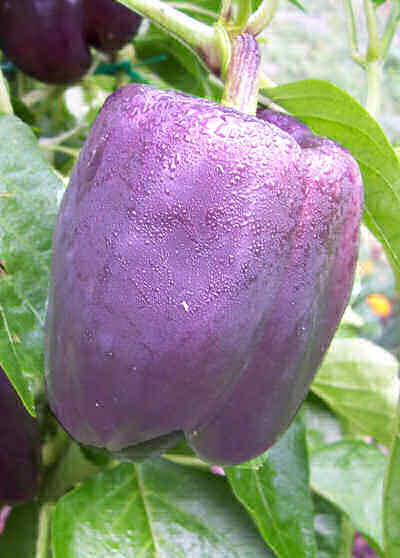capsicum: (43, 81, 362, 467)
